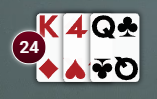4: (61, 11, 91, 42)
k: (35, 12, 62, 42)
q: (90, 12, 118, 41)
